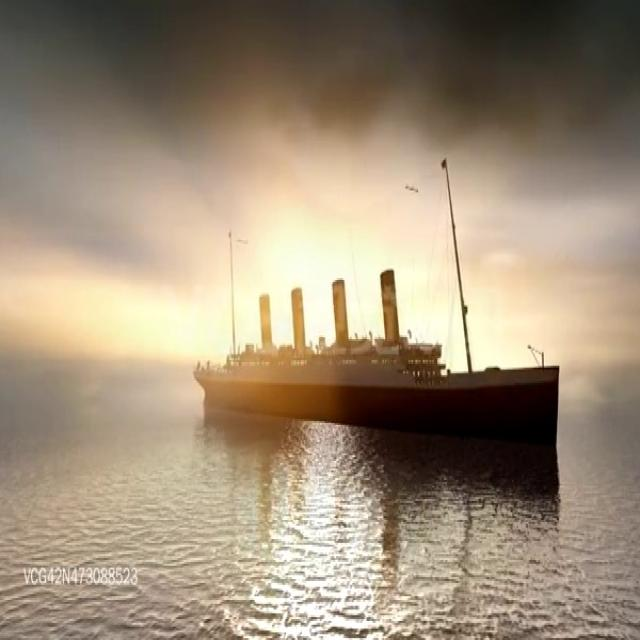passenger ship: (192, 234, 564, 448)
